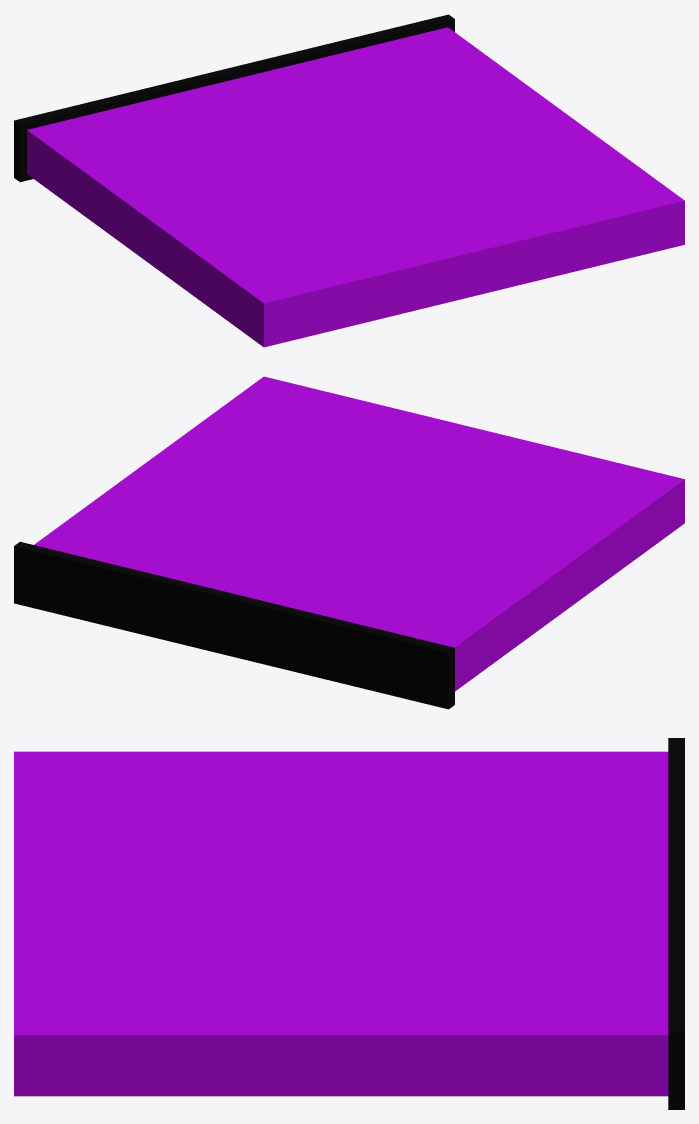
Rendered from Wall-1.fbx.
3 renders of one model, top to bottom at view 1: azimuth 30°, elevation 25°; view 2: azimuth 150°, elevation 25°; view 3: azimuth 270°, elevation 25°, orthographic. The views are drawn at different scales.
Parts seen in each view (by area): view 1: Plane; view 2: Plane; view 3: Plane.
Boxes of the visible parts, x1=… form: Plane: x1=14, y1=14, x2=684, y2=347; Plane: x1=14, y1=376, x2=684, y2=709; Plane: x1=14, y1=738, x2=684, y2=1109.
Bounding box in the file's own units: 207 × 26 × 200.
